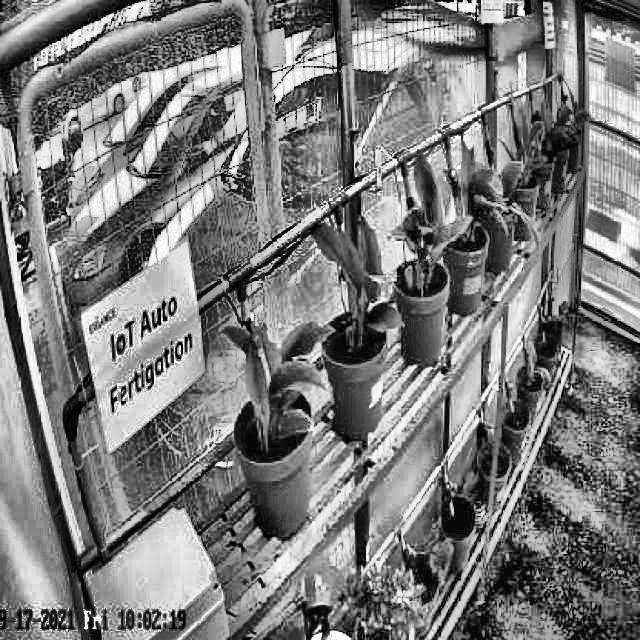plants: (222, 304, 336, 446), (381, 153, 472, 298), (310, 209, 399, 357), (438, 148, 506, 256)
